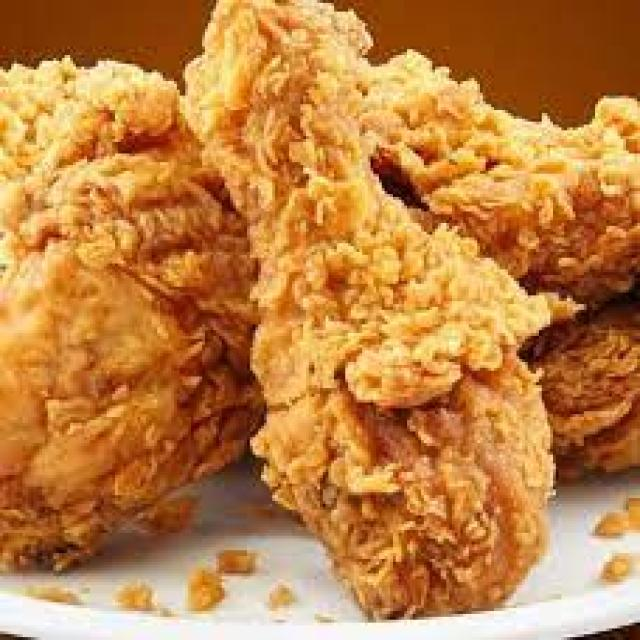Frango: (195, 16, 554, 639), (0, 31, 219, 577), (368, 55, 640, 295), (482, 285, 640, 483)
